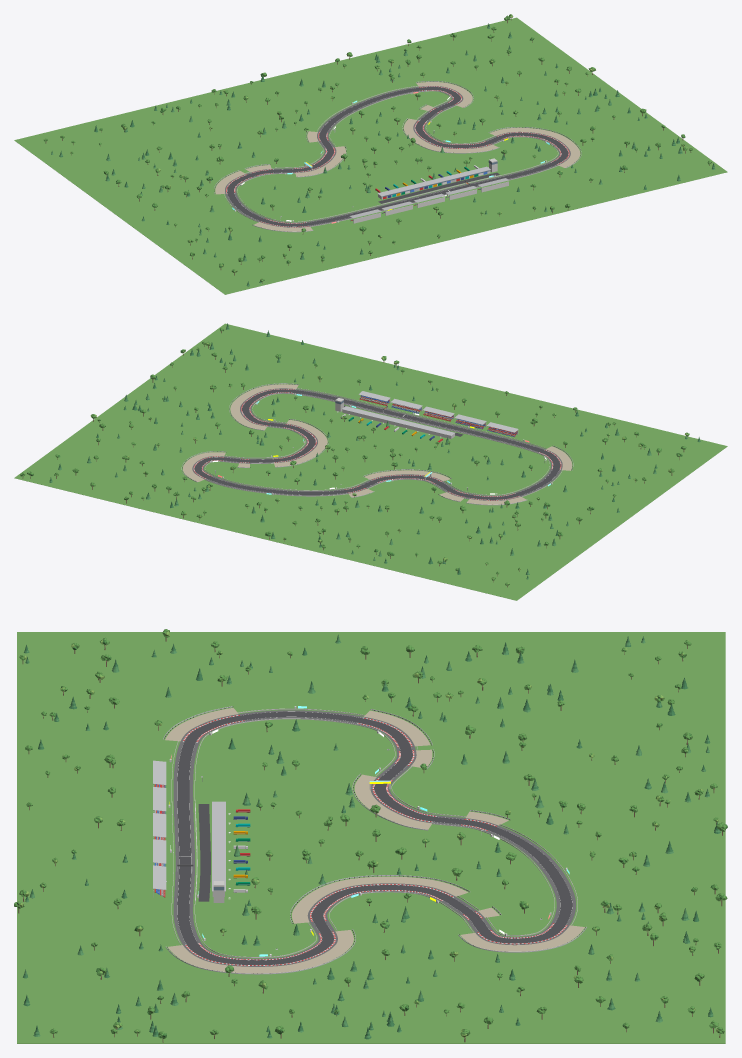
3 renders of one model, top to bottom at view 1: azimuth 30°, elevation 25°; view 2: azimuth 150°, elevation 25°; view 3: azimuth 270°, elevation 25°, orthographic. The views are drawn at different scales.
Parts seen in each view (by area): view 1: map; view 2: map; view 3: map.
Part boxes in pixels (x1,y1,x2,y2): map: (14, 14, 727, 294); map: (14, 323, 727, 600); map: (14, 629, 727, 1043).
Size of the model in its own units: 1103 by 22.2 by 806.
